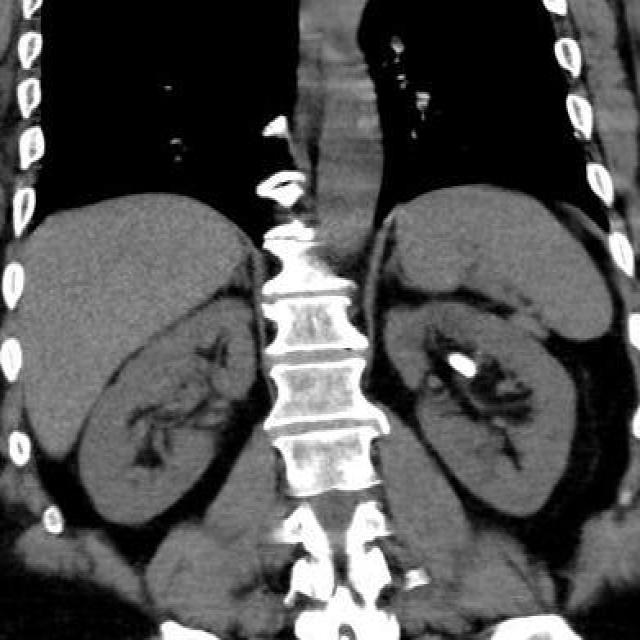Tas_Var: (445, 351, 483, 383)
